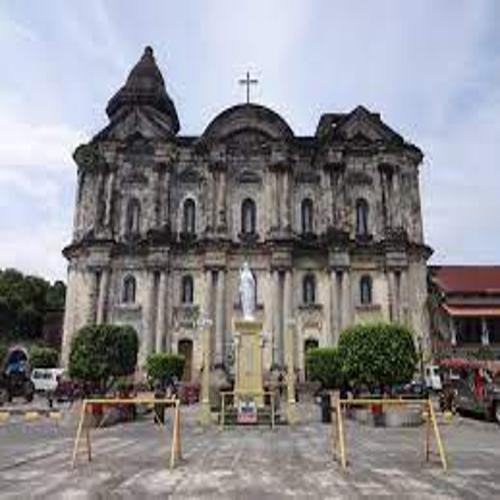Taal Basilica Church: (53, 37, 441, 425)
